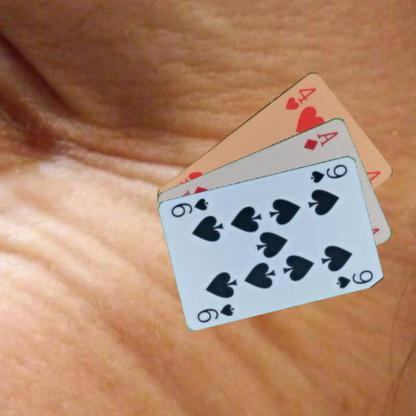4h: (283, 84, 318, 111)
9s: (195, 300, 236, 324), (308, 162, 349, 184)
Ad: (301, 128, 340, 152)
